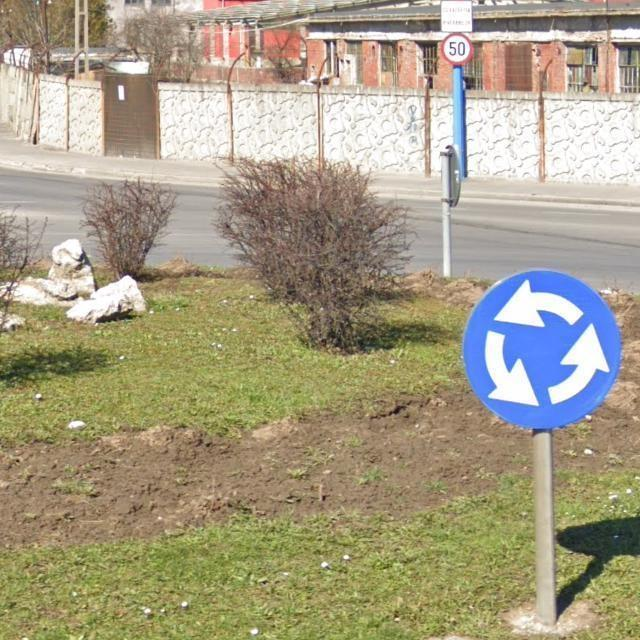forb_speed_over_50: (441, 33, 474, 65)
